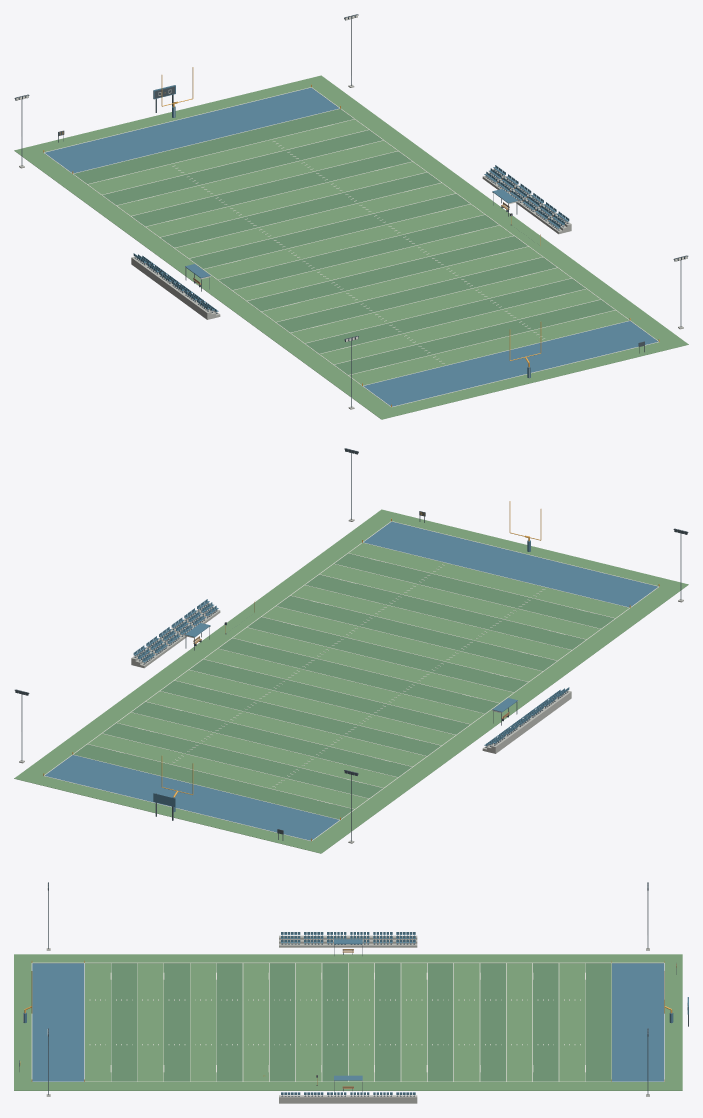
File: american-football-stadium-kit-assembled--eb6e8af2-starter-scene__22397.glb
The picture shows the model from 3 angles, top to bottom: view 1: azimuth 30°, elevation 25°; view 2: azimuth 150°, elevation 25°; view 3: azimuth 270°, elevation 25°; orthographic projection. The views are drawn at different scales.
Parts seen in each view (by area): view 1: 000-gridiron-field/0, 000-gridiron-field/1, 000-gridiron-field/2, 000-gridiron-field/3; view 2: 000-gridiron-field/0, 000-gridiron-field/1, 000-gridiron-field/2, 000-gridiron-field/3; view 3: 000-gridiron-field/0, 000-gridiron-field/1, 000-gridiron-field/2, 000-gridiron-field/3.
Part boxes in pixels (left/top/right/bottom): 000-gridiron-field/0: left=14, top=75, right=688, bottom=419; 000-gridiron-field/1: left=74, top=109, right=614, bottom=374; 000-gridiron-field/2: left=45, top=87, right=658, bottom=406; 000-gridiron-field/3: left=43, top=87, right=658, bottom=407; 000-gridiron-field/0: left=14, top=509, right=688, bottom=853; 000-gridiron-field/1: left=74, top=553, right=614, bottom=819; 000-gridiron-field/2: left=44, top=521, right=657, bottom=840; 000-gridiron-field/3: left=44, top=521, right=659, bottom=841; 000-gridiron-field/0: left=14, top=954, right=682, bottom=1090; 000-gridiron-field/1: left=111, top=963, right=611, bottom=1081; 000-gridiron-field/2: left=32, top=963, right=664, bottom=1081; 000-gridiron-field/3: left=31, top=962, right=664, bottom=1081.
Size of the model in its own units: 66.4 by 12.35 by 117.
